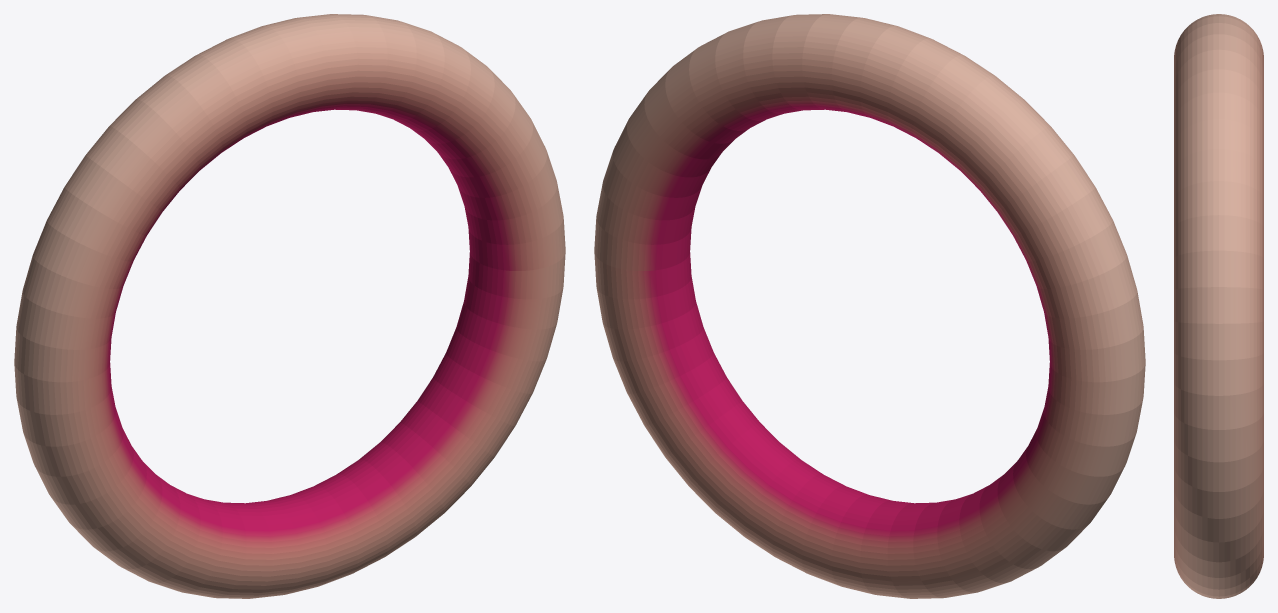
3 views of the same model, side by side, from view 1: azimuth 30°, elevation 25°; view 2: azimuth 150°, elevation 25°; view 3: azimuth 270°, elevation 25° (orthographic). The views are drawn at different scales.
Visible parts, largest first — view 1: world; view 2: world; view 3: world.
Boxes of the visible parts, <box> form: world: <box>14,14,565,598</box>; world: <box>594,14,1145,598</box>; world: <box>1174,14,1263,598</box>.
Size of the model in its own units: 35.47 by 35.4 by 5.46.
